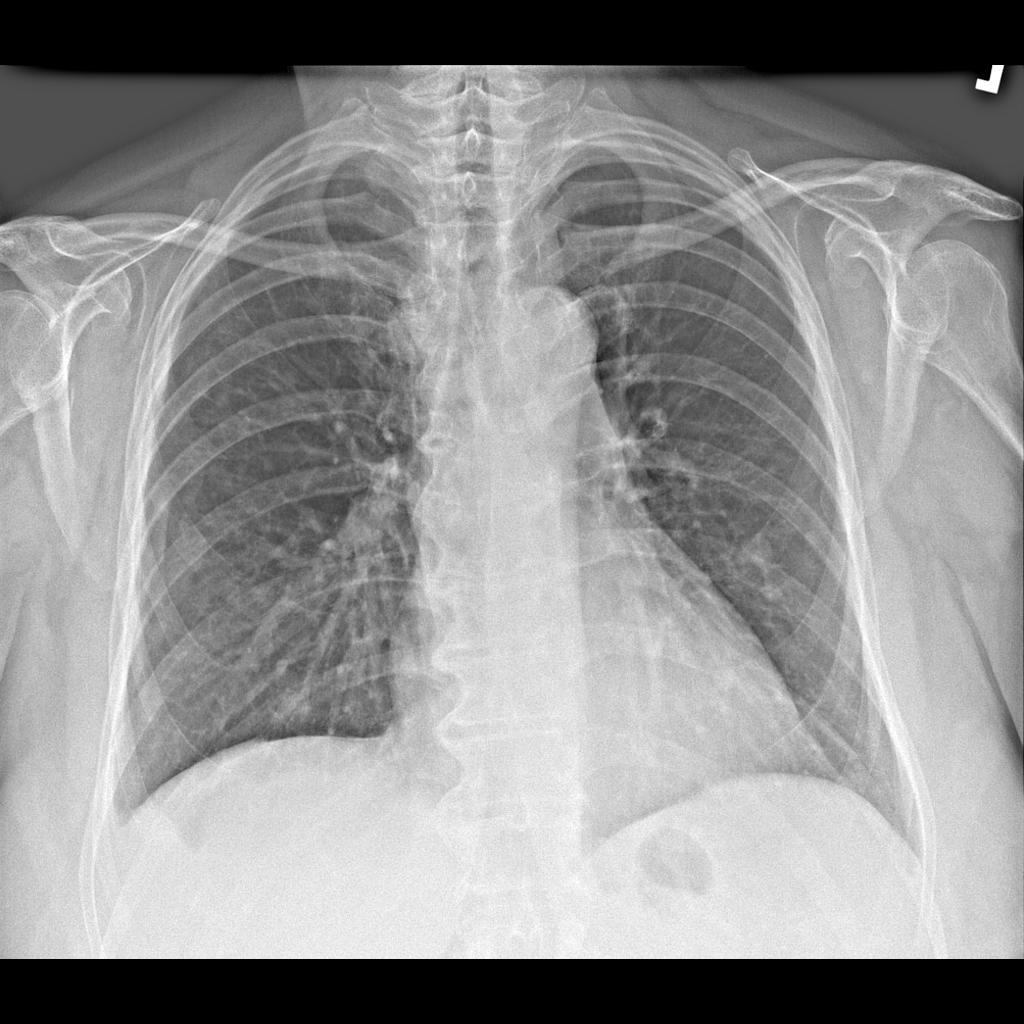Nodule: (738, 526, 779, 570), (758, 580, 789, 607)
